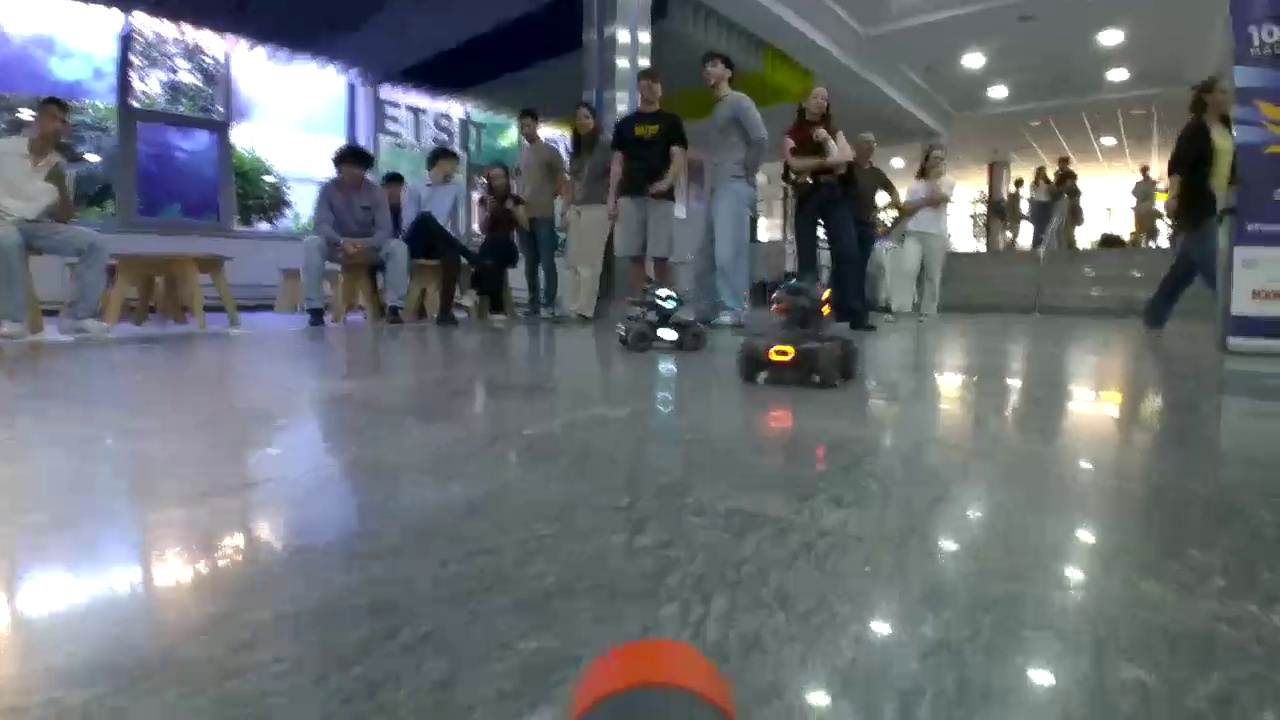robot: (738, 275, 862, 388), (618, 282, 702, 350)
